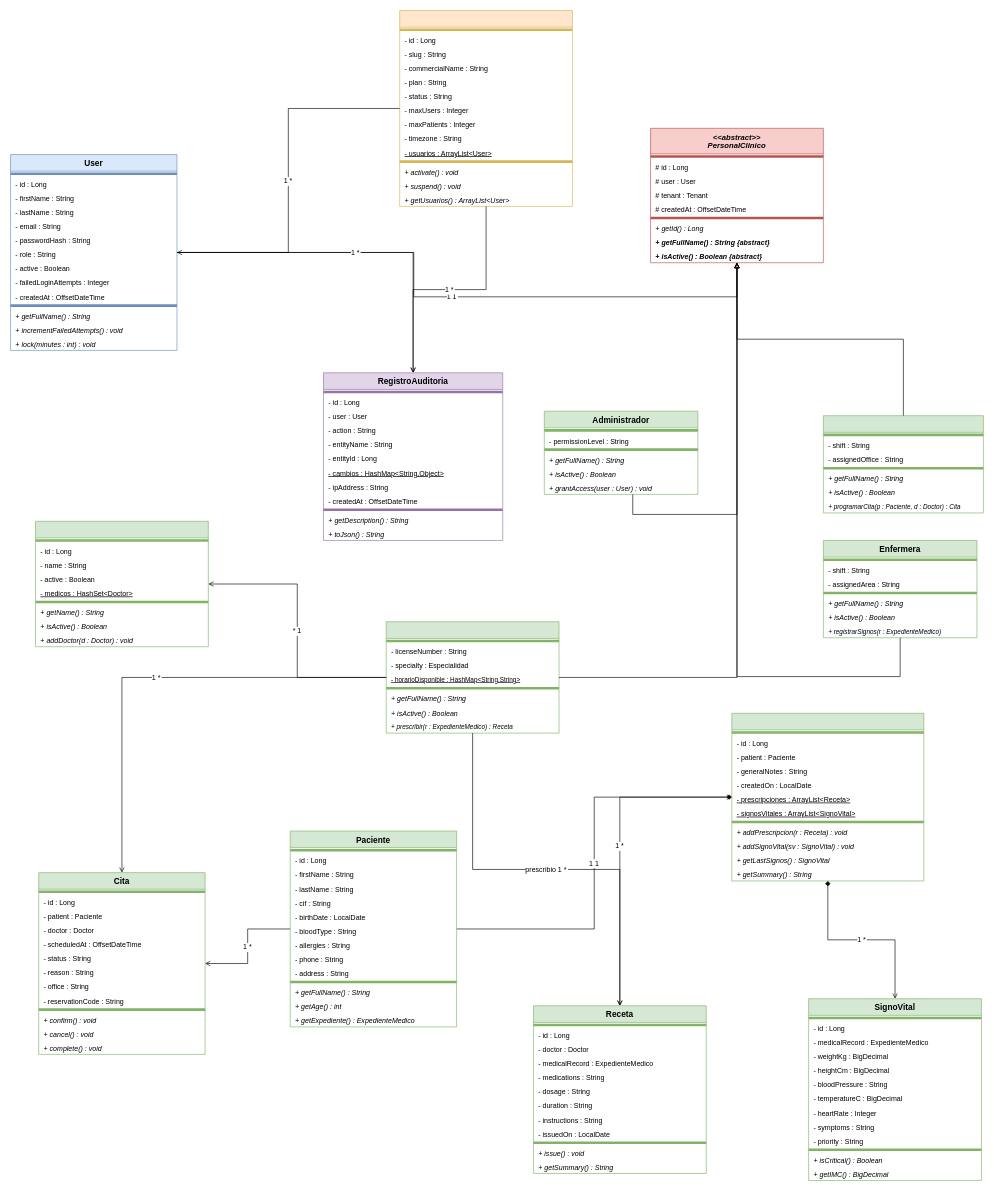
Some shapes in this 994 by 1191 pixel diagram are drawn without their labels. The shapes that lost their labels are listed below. From the top down, each one's box as (x1, y1, x2, y2) in pixels, then its label:
(399, 10, 572, 206): Tenant
(823, 415, 983, 513): Recepcionista
(35, 521, 208, 647): Especialidad
(386, 621, 559, 733): Doctor
(731, 713, 924, 881): ExpedienteMedico
